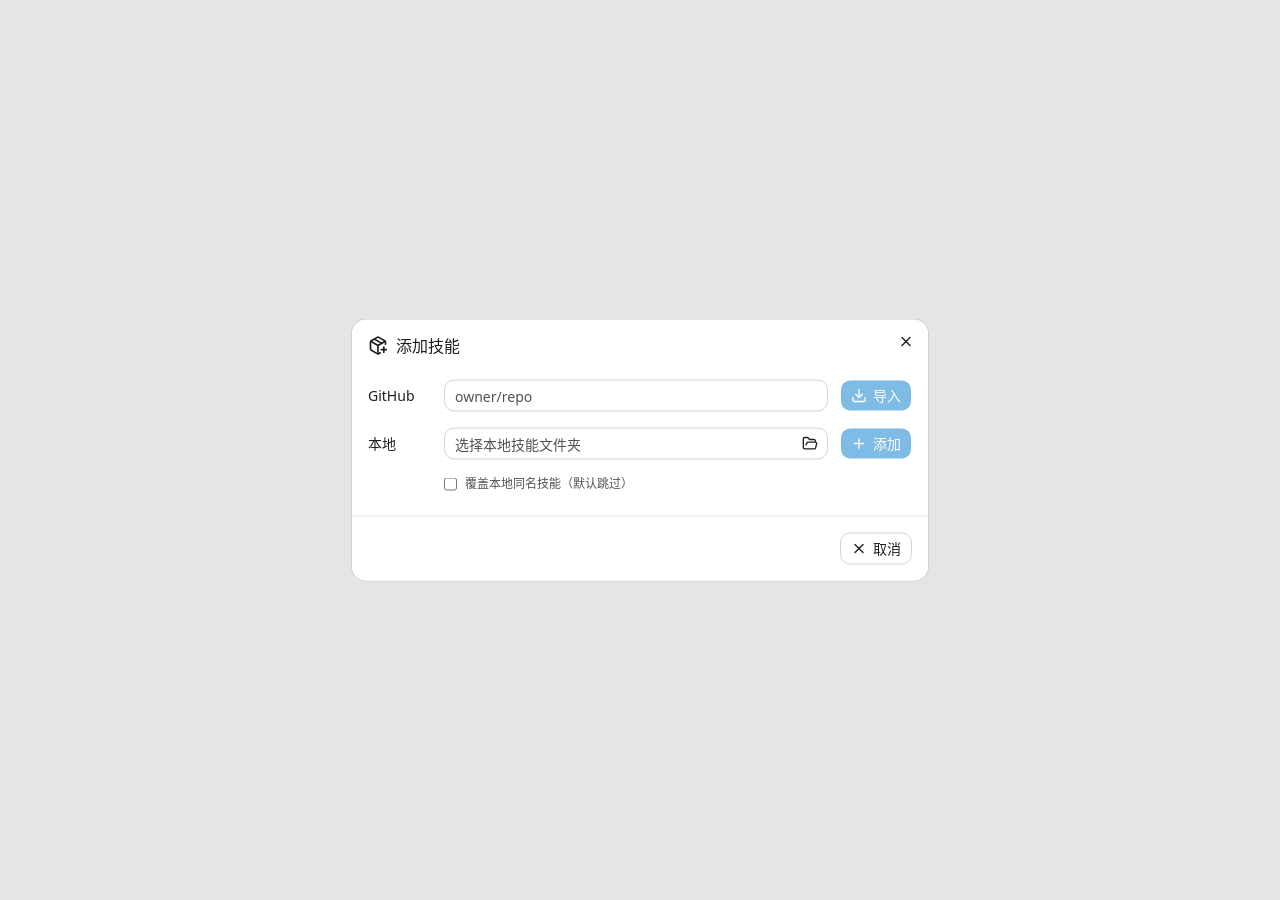
shows a safe actionable preview error and keeps input available for retry
Type "invalid" into the field labelled "GitHub" at (636, 396), box [444,380,828,412]
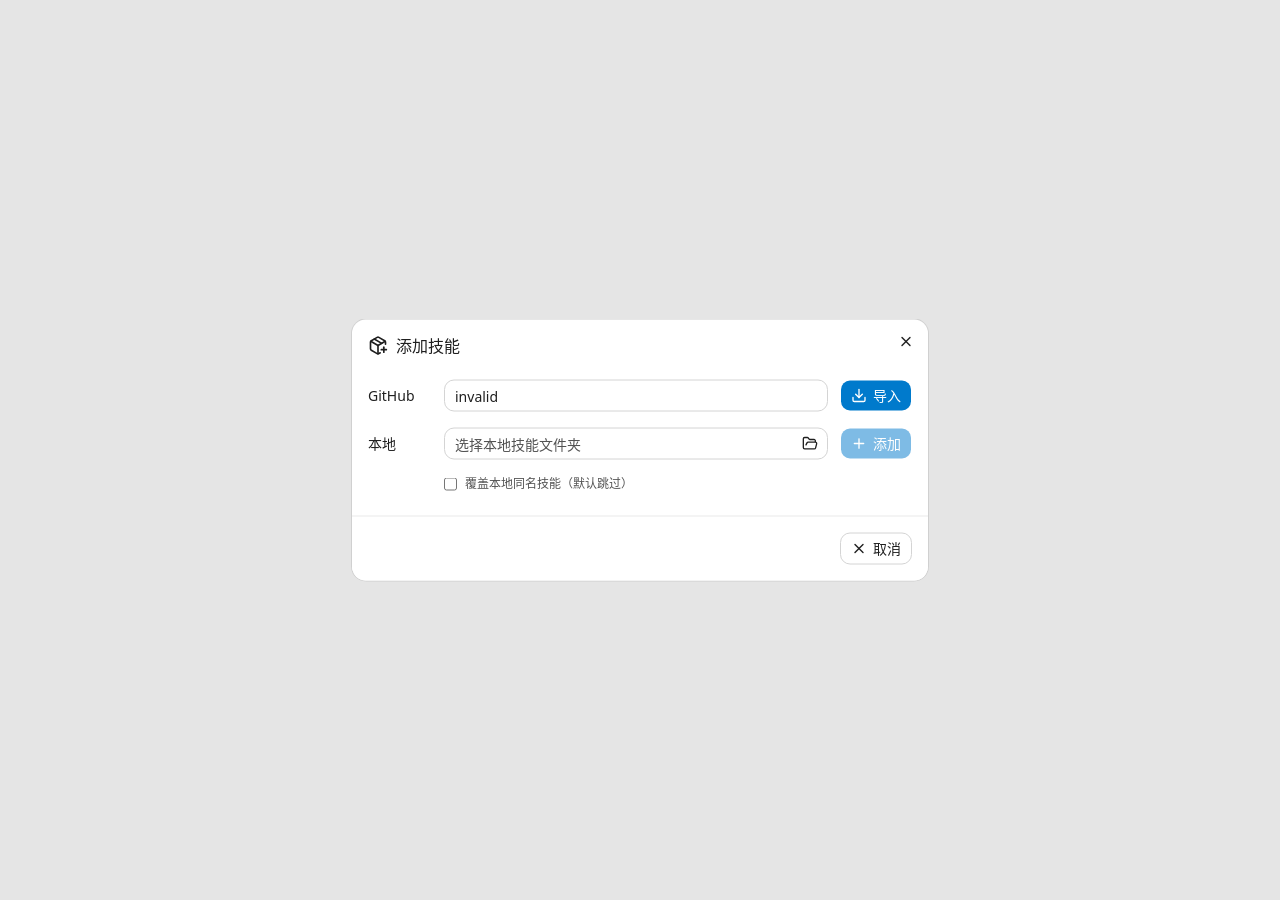
Click the button "导入" at (876, 396), box [840,380,912,412]
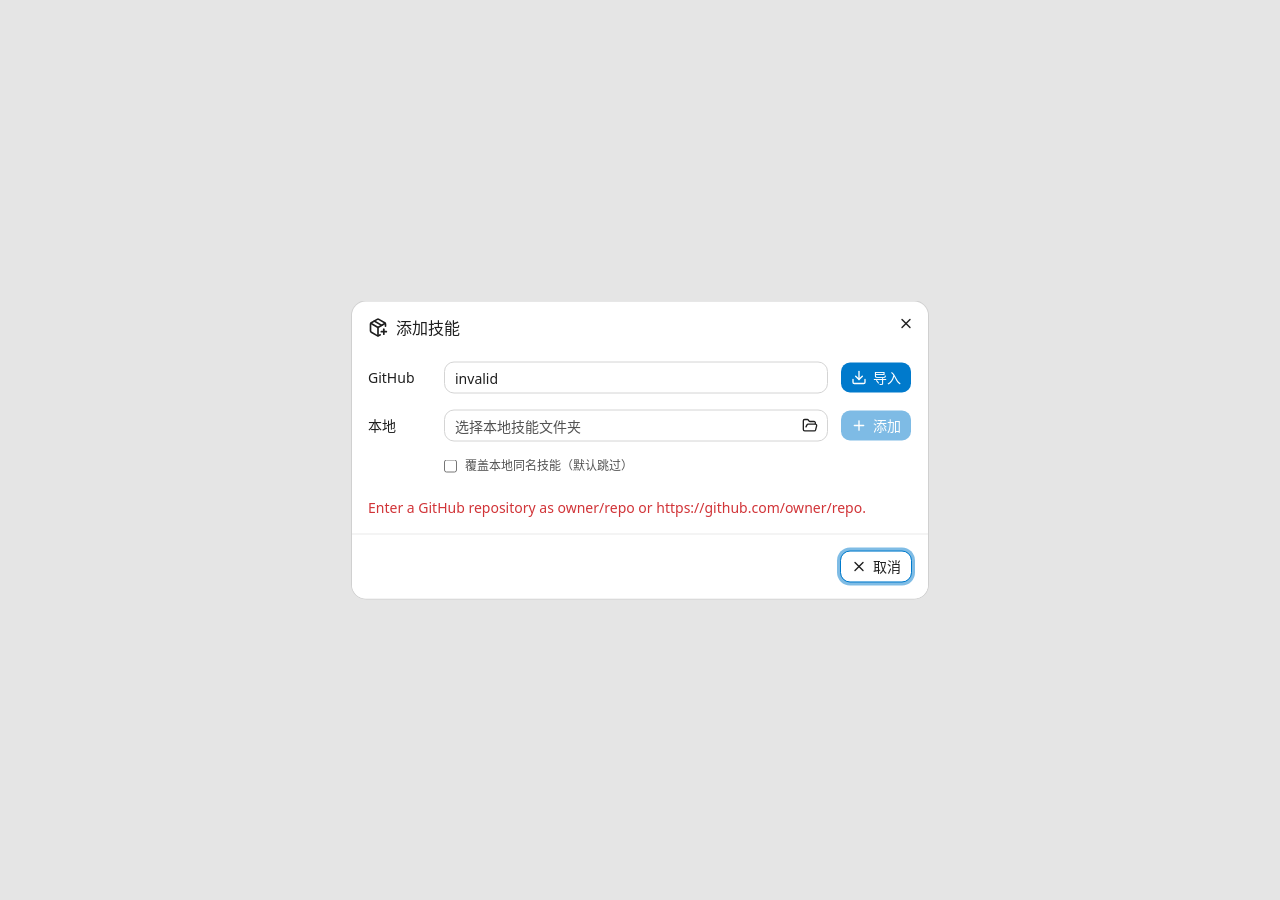
Check: the button "导入" is enabled, box [840,362,912,394]
Check: the message shows "owner/repo", box [368,498,866,516]
